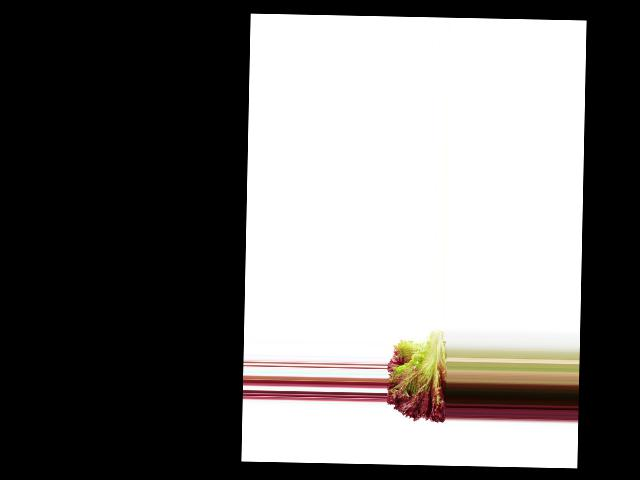lettuce: (387, 326, 447, 428)
